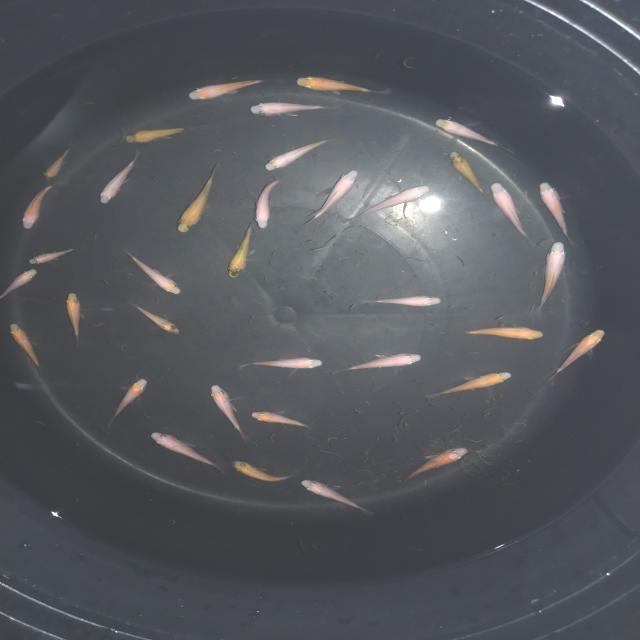nila: (537, 326, 612, 392), (290, 168, 370, 228), (166, 166, 225, 240), (341, 182, 436, 223), (120, 246, 185, 302), (528, 239, 574, 318), (296, 474, 378, 518), (425, 366, 518, 404), (398, 442, 476, 487), (488, 180, 534, 253), (90, 150, 146, 208), (147, 428, 220, 472), (98, 374, 152, 432), (185, 72, 276, 106), (262, 135, 342, 173), (201, 380, 250, 442), (288, 72, 396, 100), (538, 179, 582, 247), (18, 180, 70, 237), (227, 452, 309, 488), (336, 350, 431, 378), (252, 174, 295, 234), (113, 121, 208, 147), (425, 118, 506, 148), (6, 321, 50, 376), (442, 151, 490, 201), (121, 301, 184, 337), (456, 320, 550, 344), (223, 222, 257, 286), (242, 100, 340, 122), (238, 353, 332, 374), (60, 288, 89, 353), (352, 292, 446, 311), (0, 264, 44, 304), (248, 410, 316, 434), (24, 241, 86, 267), (38, 146, 76, 180)
